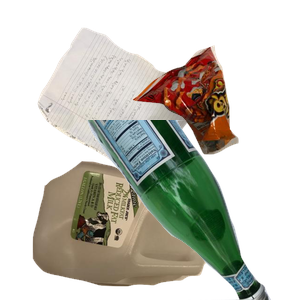glass: (75, 120, 300, 300)
paper: (35, 25, 232, 204)
plastic: (30, 159, 247, 300)
trash: (130, 43, 300, 190)
